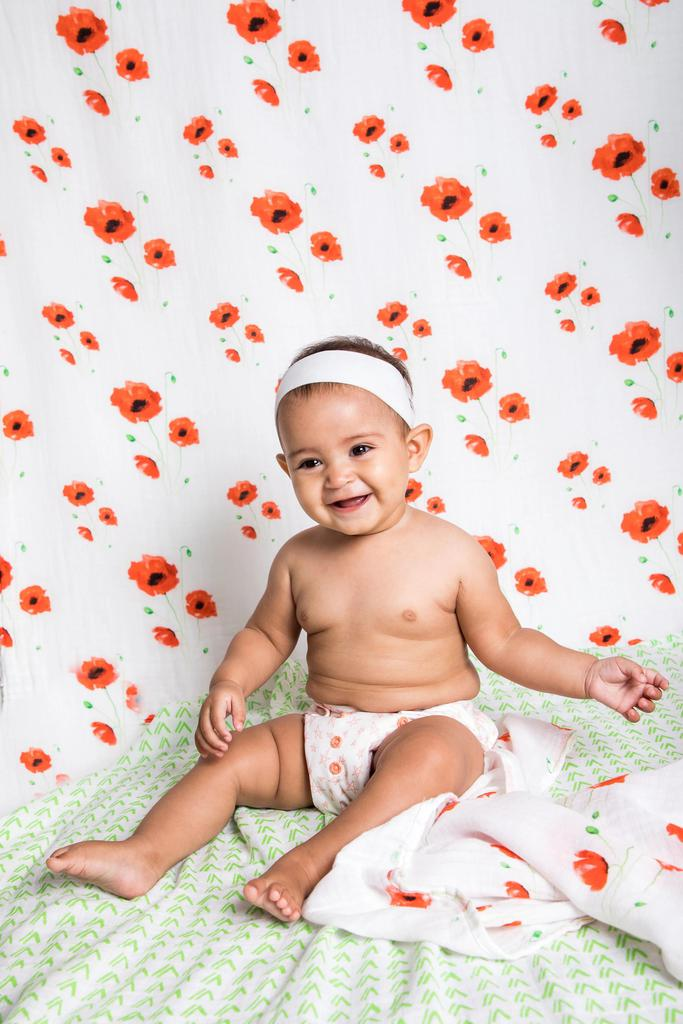child: (41, 320, 672, 947)
